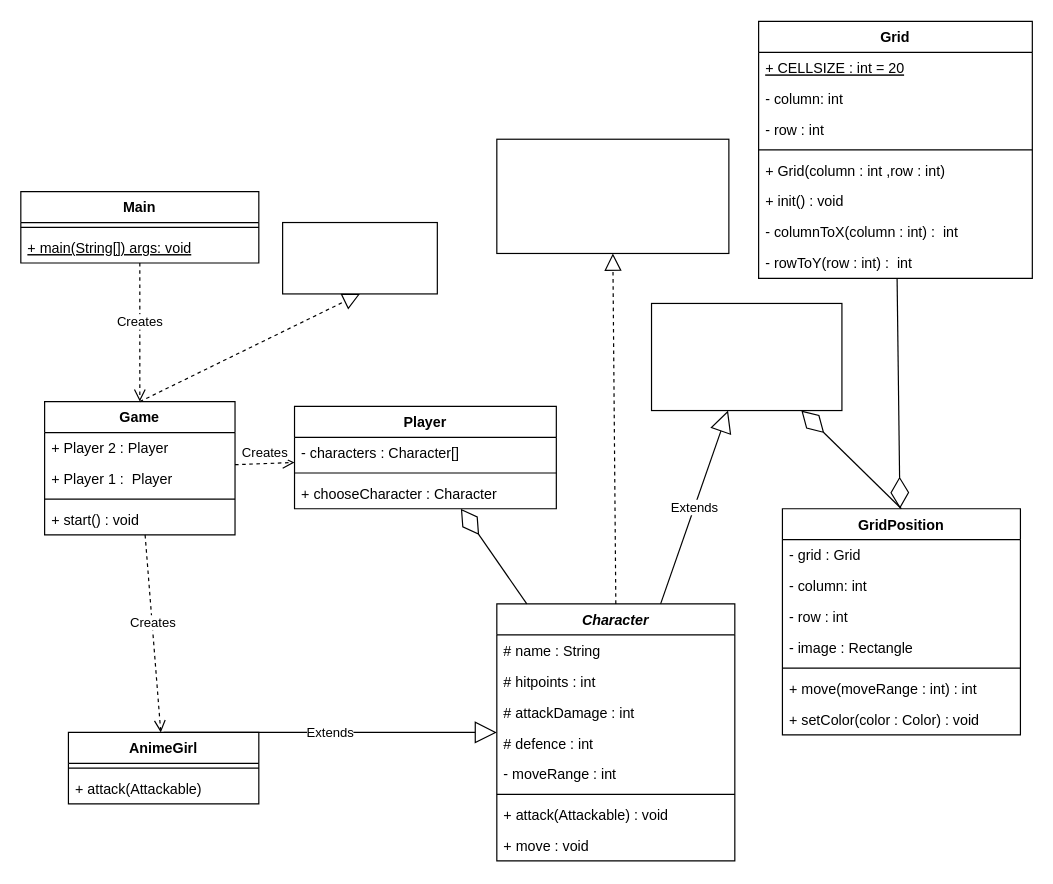
This 1053x884 diagram has some shape labels left out. Each missing label, with the centre of its shape:
<<Interface>> Attackable + getHit(int): void + isDestroyed : boolean: the point at 612,195
GameObject # position: GridPosition + getPosition(): Position: the point at 746,356
«interface» KeyboardHandler: the point at 359,257
